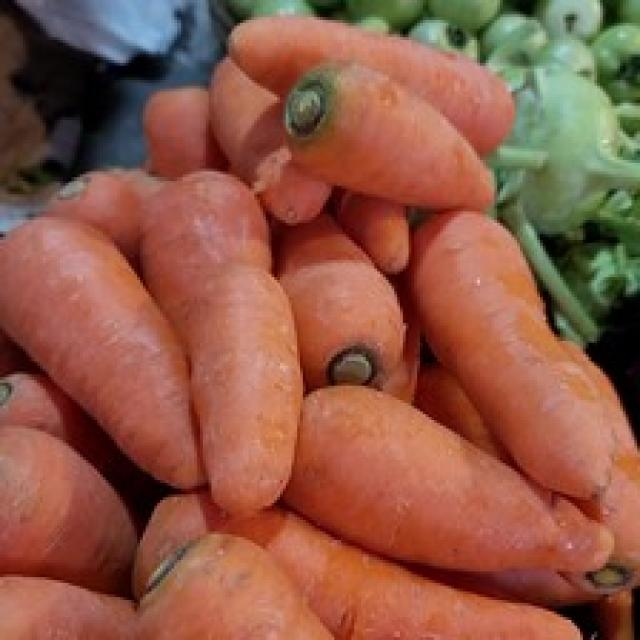Fresh_Carrot: (130, 153, 307, 513), (273, 376, 582, 569), (0, 225, 210, 484), (426, 208, 613, 498), (283, 49, 498, 219)
